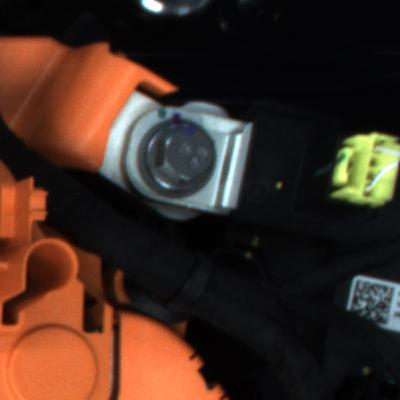nut_b: (128, 115, 222, 198)
